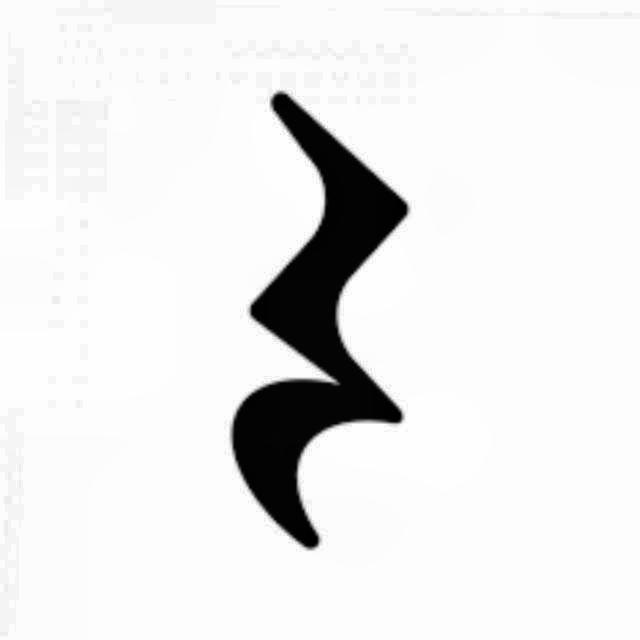Quarter-rest: (197, 80, 451, 560)
